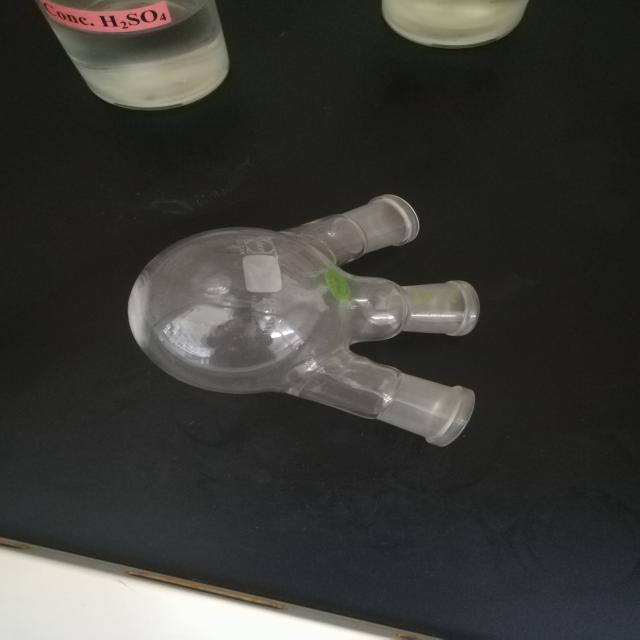Round_Bottom_Flask_Borosilicate_Glass_3_Neck: (93, 170, 507, 485)
